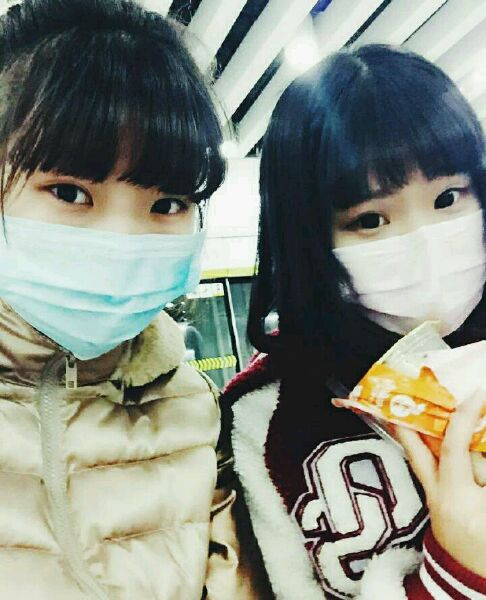face_mask: (1, 91, 200, 360), (332, 143, 486, 341)
